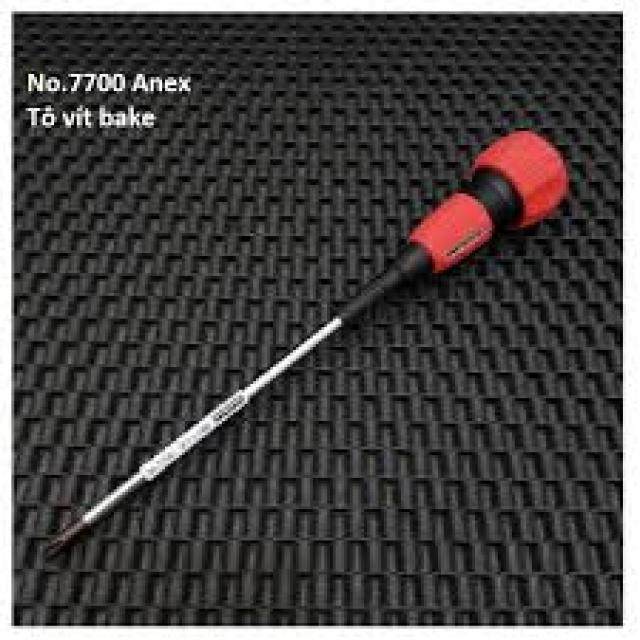screwdriver: (40, 131, 572, 572)
